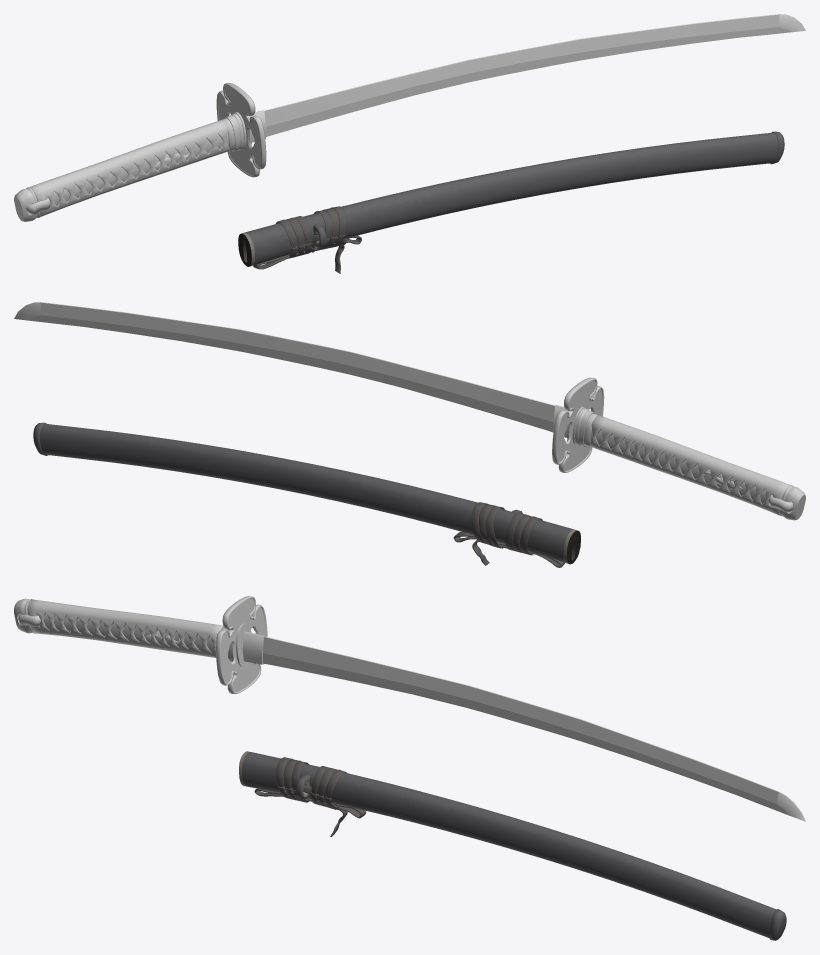
Rendered from Katana_3e.gltf.
3 renders of one model, top to bottom at view 1: azimuth 30°, elevation 25°; view 2: azimuth 150°, elevation 25°; view 3: azimuth 330°, elevation 25°, orthographic.
Parts seen in each view (by area): view 1: Saya, blade_low_Katana_0.002, Tsuka-ito, Tsuba, Sage-o, Same-gava, Kashira; view 2: Saya, blade_low_Katana_0.002, Tsuka-ito, Tsuba, Sage-o, Same-gava, Kashira; view 3: Saya, blade_low_Katana_0.002, Tsuka-ito, Tsuba, Sage-o, Same-gava, Habaki.
Part boxes in pixels (left/top/right/bottom): Saya: left=238, top=132, right=777, bottom=266; blade_low_Katana_0.002: left=264, top=14, right=805, bottom=136; Tsuka-ito: left=26, top=118, right=235, bottom=216; Tsuba: left=216, top=83, right=266, bottom=177; Sage-o: left=253, top=206, right=361, bottom=273; Same-gava: left=53, top=133, right=228, bottom=205; Kashira: left=14, top=187, right=40, bottom=221; Saya: left=40, top=423, right=580, bottom=564; blade_low_Katana_0.002: left=14, top=302, right=554, bottom=432; Tsuka-ito: left=583, top=413, right=793, bottom=515; Tsuba: left=552, top=377, right=604, bottom=472; Sage-o: left=453, top=502, right=564, bottom=567; Same-gava: left=590, top=429, right=766, bottom=503; Kashira: left=779, top=485, right=805, bottom=520; Saya: left=242, top=752, right=776, bottom=938; blade_low_Katana_0.002: left=262, top=636, right=805, bottom=821; Tsuka-ito: left=18, top=599, right=224, bottom=657; Tsuba: left=215, top=596, right=267, bottom=693; Sage-o: left=254, top=757, right=366, bottom=836; Same-gava: left=43, top=614, right=213, bottom=651; Habaki: left=242, top=631, right=264, bottom=664.
Bounding box in the file's own units: 43.07 × 10.75 × 4.33.
